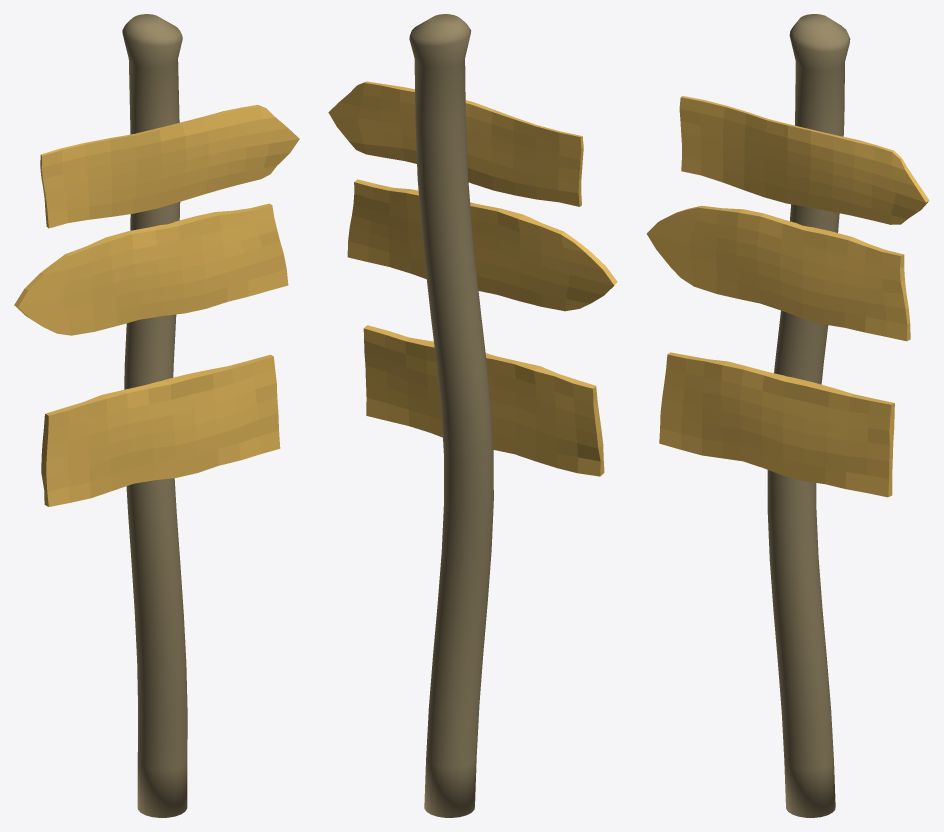
The model's file is signpost all.fbx.
The picture shows the model from 3 angles, left to right: view 1: azimuth 30°, elevation 25°; view 2: azimuth 150°, elevation 25°; view 3: azimuth 330°, elevation 25°; orthographic projection. The views are drawn at different scales.
Parts seen in each view (by area): view 1: sign right; view 2: sign right; view 3: sign right.
Boxes of the visible parts, box(x1,y1,x2,y2) form: sign right: box(14, 14, 299, 817); sign right: box(328, 14, 617, 817); sign right: box(646, 14, 929, 817).
Size of the model in its own units: 65 by 172 by 18.61.
